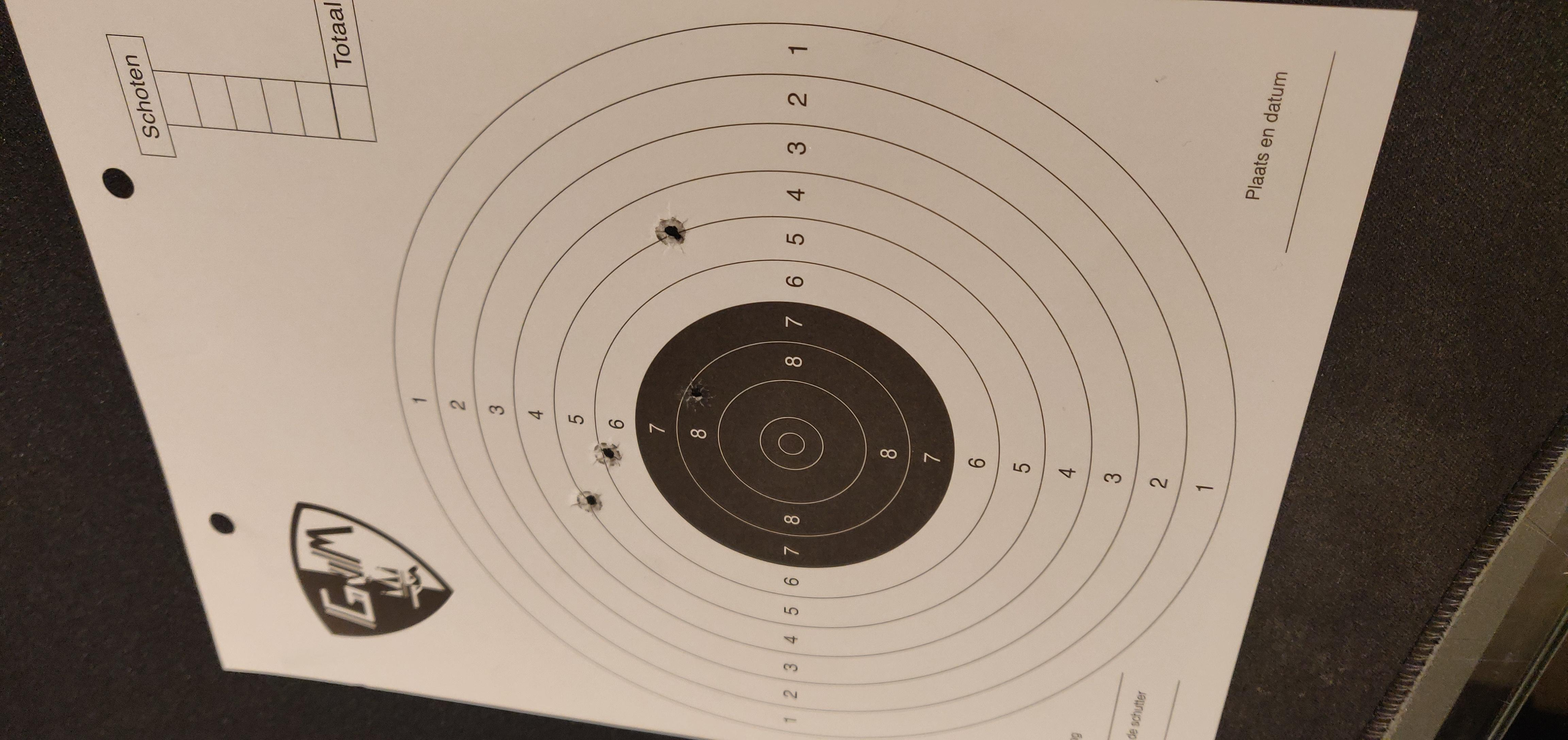hole: (878, 486, 917, 527), (941, 268, 978, 302), (959, 223, 997, 251), (859, 327, 891, 360)
